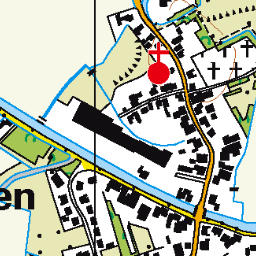church: (141, 39, 173, 87)
